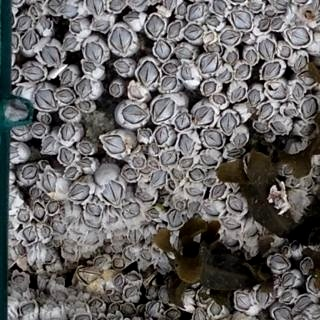Barnacle: (77, 256, 107, 282), (82, 41, 103, 75), (151, 96, 174, 123), (111, 25, 129, 56), (138, 60, 158, 87), (284, 26, 311, 46), (33, 88, 56, 111), (120, 104, 146, 124), (102, 180, 122, 205), (39, 45, 61, 67), (230, 10, 252, 31), (194, 105, 214, 128), (102, 135, 126, 153), (147, 13, 165, 37), (266, 82, 288, 101), (199, 54, 218, 76), (76, 76, 94, 99), (67, 183, 89, 201), (258, 38, 276, 60), (218, 112, 235, 134), (42, 169, 57, 193), (23, 64, 43, 82), (174, 110, 190, 132), (297, 71, 316, 89), (262, 63, 281, 81), (21, 30, 38, 50), (203, 130, 222, 147), (160, 76, 179, 93), (154, 39, 171, 58), (293, 294, 313, 310), (178, 133, 194, 153), (219, 30, 239, 46), (62, 34, 79, 52), (185, 23, 203, 40), (166, 20, 183, 38), (14, 14, 31, 32), (85, 0, 103, 17), (92, 18, 111, 34), (234, 292, 251, 309), (150, 170, 167, 187), (181, 64, 196, 83), (167, 209, 181, 229), (59, 147, 75, 164), (234, 64, 251, 80), (188, 3, 204, 20), (122, 201, 140, 216), (160, 150, 178, 165), (269, 255, 288, 269), (55, 89, 74, 103), (33, 201, 46, 221), (113, 59, 130, 74), (211, 0, 228, 15), (255, 287, 269, 305), (23, 225, 37, 243), (220, 217, 241, 229), (11, 122, 29, 136), (155, 126, 168, 145), (59, 68, 72, 87), (175, 47, 194, 60), (282, 272, 298, 287), (201, 80, 216, 96), (162, 61, 179, 75), (62, 4, 79, 18), (61, 122, 74, 140), (22, 165, 37, 180), (108, 82, 123, 97), (19, 302, 35, 316), (197, 286, 211, 302), (50, 219, 66, 233), (85, 202, 102, 215), (210, 184, 227, 197), (248, 88, 261, 105), (231, 86, 244, 103), (273, 307, 291, 319), (292, 82, 304, 100), (128, 228, 142, 243), (16, 208, 31, 222), (127, 85, 142, 99), (206, 15, 221, 29), (123, 168, 139, 181), (233, 131, 246, 147), (61, 106, 77, 119), (226, 49, 239, 65), (46, 0, 62, 13), (308, 275, 319, 293), (145, 300, 159, 314), (69, 20, 83, 34), (256, 18, 270, 32), (156, 259, 169, 274), (225, 236, 240, 249), (84, 231, 97, 246), (271, 121, 286, 134), (209, 299, 221, 315), (200, 154, 216, 166), (228, 196, 241, 210), (294, 54, 307, 68), (39, 17, 52, 31), (278, 291, 293, 303), (189, 168, 204, 180), (124, 11, 139, 23), (109, 0, 127, 10), (65, 166, 78, 179), (219, 69, 232, 82), (192, 307, 206, 319), (300, 258, 312, 272), (245, 50, 257, 64), (124, 247, 135, 262), (137, 190, 152, 201), (211, 94, 226, 105), (206, 43, 221, 54), (186, 185, 202, 195), (124, 285, 137, 297), (187, 199, 200, 211), (132, 155, 144, 168), (32, 124, 45, 136), (271, 17, 284, 29), (180, 157, 194, 168), (301, 124, 315, 135), (28, 5, 39, 19), (160, 286, 169, 303), (227, 147, 242, 157), (162, 0, 177, 10), (147, 207, 159, 219), (47, 201, 59, 213), (121, 303, 134, 314), (43, 249, 54, 262), (139, 248, 150, 261), (39, 226, 50, 239), (171, 167, 182, 180), (79, 158, 92, 169), (138, 129, 151, 140), (176, 3, 187, 16), (164, 309, 178, 319), (28, 260, 38, 274), (273, 0, 287, 10), (247, 221, 256, 236), (112, 257, 124, 268), (254, 121, 266, 132), (203, 31, 214, 43), (146, 283, 156, 296), (79, 143, 92, 153), (61, 236, 77, 244), (64, 296, 82, 303), (29, 187, 41, 197), (68, 303, 85, 310), (12, 274, 25, 283), (250, 0, 261, 10), (89, 299, 101, 308), (128, 0, 146, 6), (126, 273, 139, 281), (51, 234, 59, 247), (289, 241, 299, 251), (310, 308, 319, 319), (303, 178, 312, 189), (150, 143, 159, 154), (110, 294, 122, 302), (62, 246, 74, 254), (109, 303, 119, 312), (113, 275, 122, 285), (149, 159, 159, 168), (54, 290, 65, 298), (175, 200, 184, 209), (291, 177, 300, 186), (17, 244, 25, 254), (141, 166, 151, 174), (41, 114, 49, 124), (168, 179, 175, 190), (284, 166, 293, 174), (109, 314, 120, 319), (313, 165, 319, 174)
